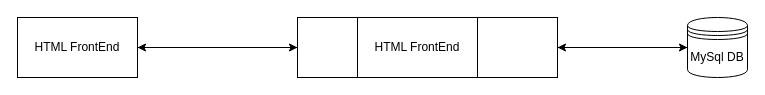
Some shapes in this 765 by 95 pixel diagram are drawn without their labels. Each missing label, with the box of its shape:
Jira & WTForms: (296, 16, 358, 78)
SQLAlchemy: (476, 16, 558, 78)
